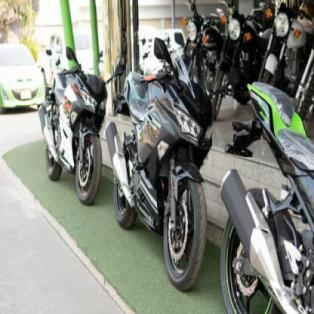Motocicleta: (111, 39, 208, 292), (219, 73, 314, 313), (31, 44, 108, 205)
